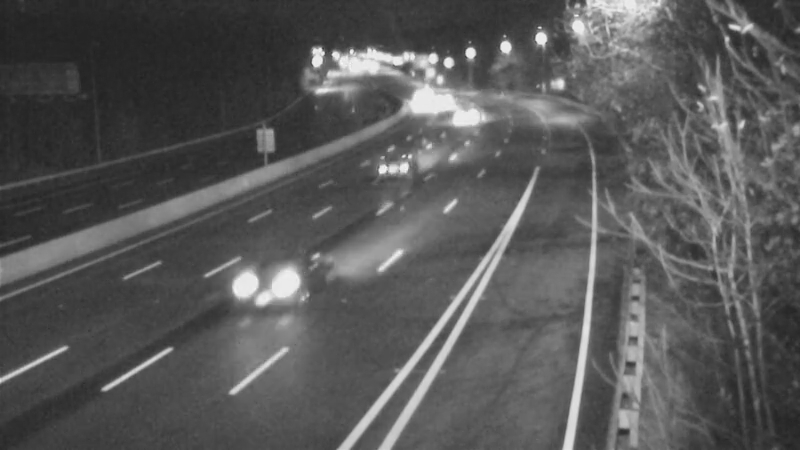vehicle: (353, 130, 433, 210), (233, 249, 313, 329), (417, 73, 467, 123), (400, 84, 450, 134), (417, 84, 467, 134), (443, 90, 493, 140)
